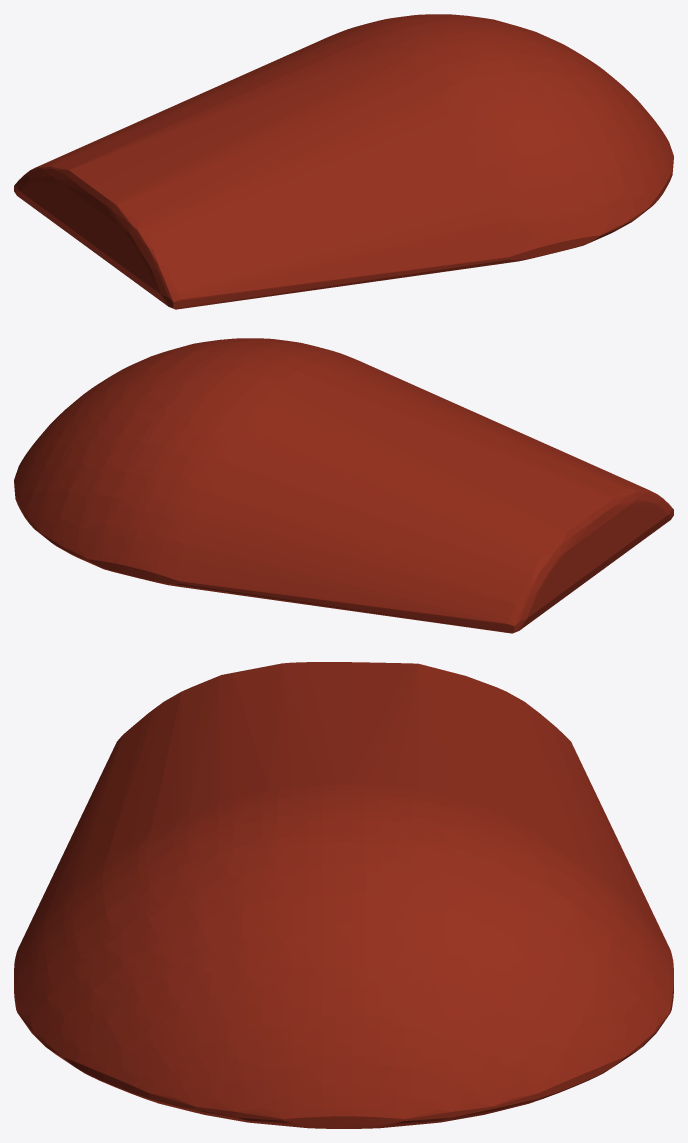
File: right_elbow_link_part_15.obj
3 views of the same model, one above another, from view 1: azimuth 30°, elevation 25°; view 2: azimuth 150°, elevation 25°; view 3: azimuth 270°, elevation 25° (orthographic). The views are drawn at different scales.
Size of the model in its own units: 0.0851 by 0.0195 by 0.0625.
